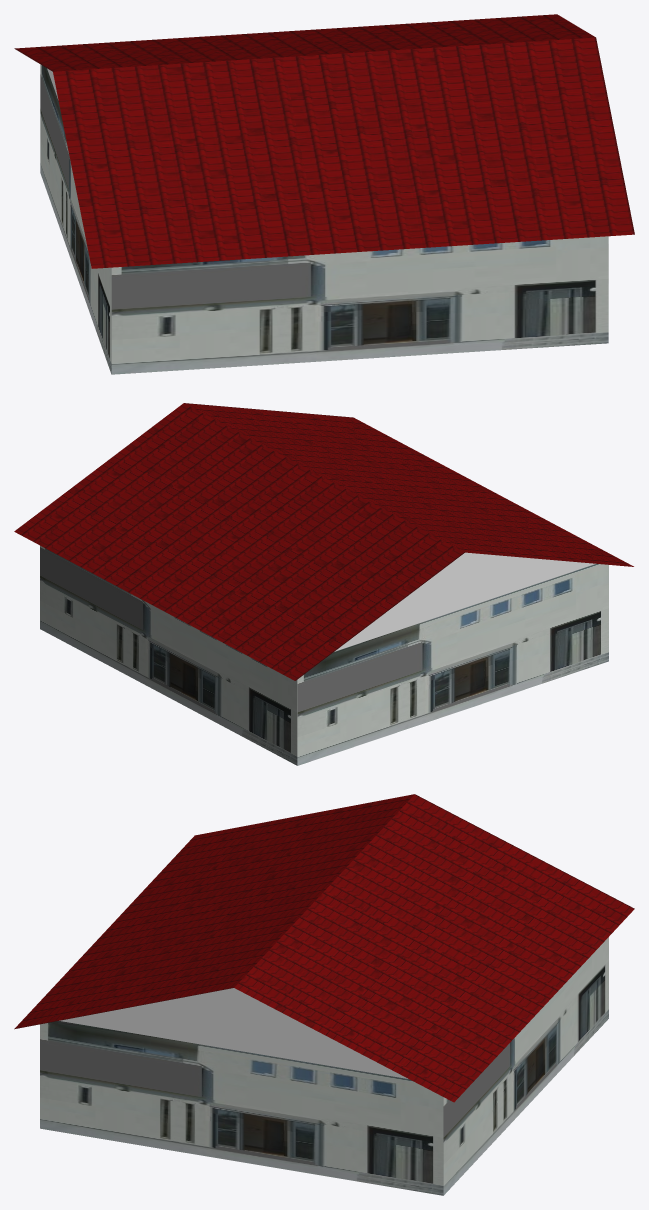
3 views of the same model, one above another, from view 1: azimuth 30°, elevation 25°; view 2: azimuth 150°, elevation 25°; view 3: azimuth 270°, elevation 25° (orthographic). The views are drawn at different scales.
Parts seen in each view (by area): view 1: CityEngineMaterial_17_m, CityEngineMaterial_11_m; view 2: CityEngineMaterial_17_m, CityEngineMaterial_11_m, CityEngineMaterial_3_m; view 3: CityEngineMaterial_17_m, CityEngineMaterial_11_m, CityEngineMaterial_3_m.
Boxes of the visible parts, left/top/right/bottom form: CityEngineMaterial_17_m: left=14, top=14, right=634, bottom=268; CityEngineMaterial_11_m: left=40, top=64, right=608, bottom=374; CityEngineMaterial_17_m: left=14, top=403, right=633, bottom=680; CityEngineMaterial_11_m: left=40, top=545, right=608, bottom=765; CityEngineMaterial_3_m: left=334, top=552, right=595, bottom=651; CityEngineMaterial_17_m: left=14, top=794, right=634, bottom=1102; CityEngineMaterial_11_m: left=40, top=937, right=608, bottom=1195; CityEngineMaterial_3_m: left=59, top=988, right=407, bottom=1078.
Size of the model in its own units: 30.3 by 9.65 by 29.76.
